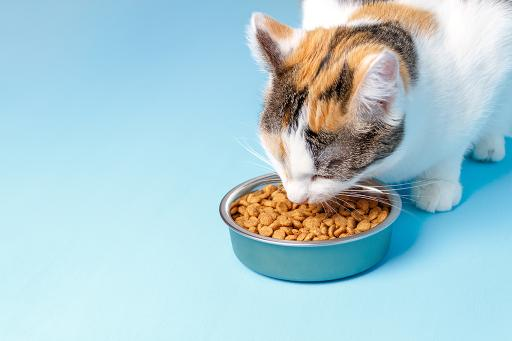cat_eating: (220, 0, 512, 281)
